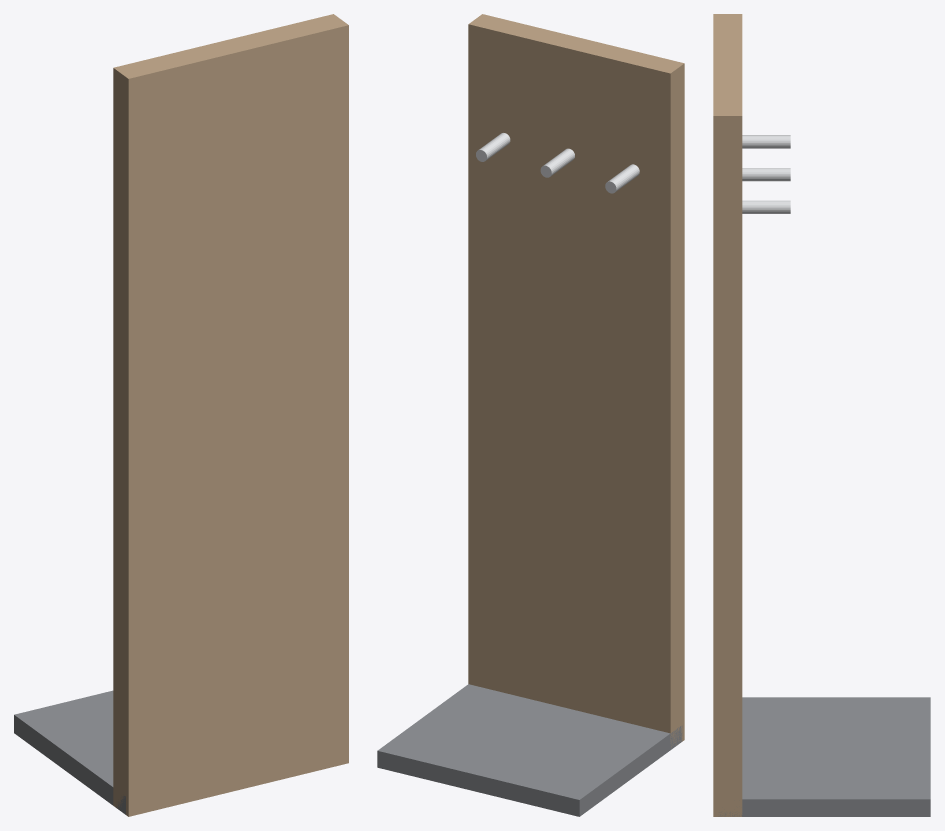
File: coat_rack-PRIM-003.glb
3 views of the same model, side by side, from view 1: azimuth 30°, elevation 25°; view 2: azimuth 150°, elevation 25°; view 3: azimuth 270°, elevation 25° (orthographic). The views are drawn at different scales.
Parts seen in each view (by area): view 1: p0, p1; view 2: p0, p1; view 3: p0, p1, p2, p3, p4.
Boxes of the visible parts, left/top/right/bottom form: p0: left=113, top=14, right=348, bottom=816; p1: left=14, top=690, right=125, bottom=814; p0: left=468, top=14, right=684, bottom=747; p1: left=377, top=684, right=682, bottom=816; p0: left=713, top=14, right=742, bottom=816; p1: left=718, top=697, right=930, bottom=816; p2: left=742, top=135, right=790, bottom=148; p3: left=742, top=168, right=790, bottom=181; p4: left=742, top=200, right=790, bottom=213.
Size of the model in its own units: 0.5 by 1.6 by 0.45.
